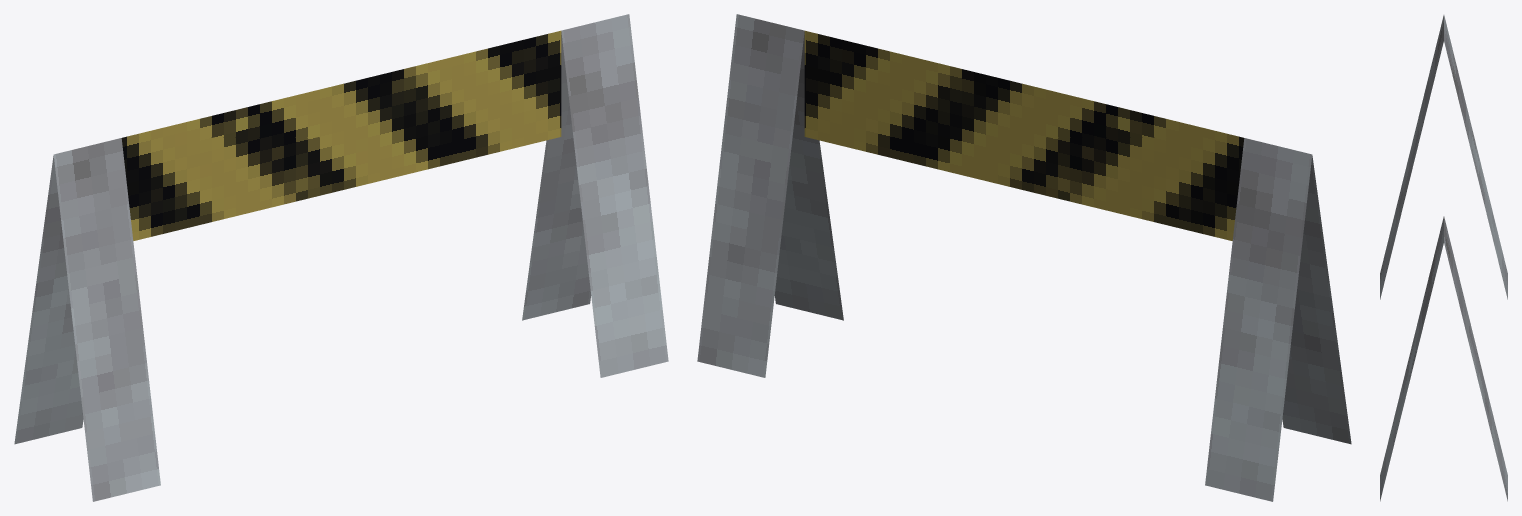
Rendered from detailBarrier_typeB.fbx.
The picture shows the model from 3 angles, left to right: view 1: azimuth 30°, elevation 25°; view 2: azimuth 150°, elevation 25°; view 3: azimuth 270°, elevation 25°; orthographic projection. The views are drawn at different scales.
Visible parts, largest first — view 1: detailBarrier_typeB; view 2: detailBarrier_typeB; view 3: detailBarrier_typeB.
Part boxes in pixels (box(x1,y1,x2,y2)): detailBarrier_typeB: box(14, 14, 668, 501); detailBarrier_typeB: box(697, 14, 1351, 501); detailBarrier_typeB: box(1380, 15, 1507, 501).
Bounding box in the file's own units: 5.67 × 3 × 1.34.
